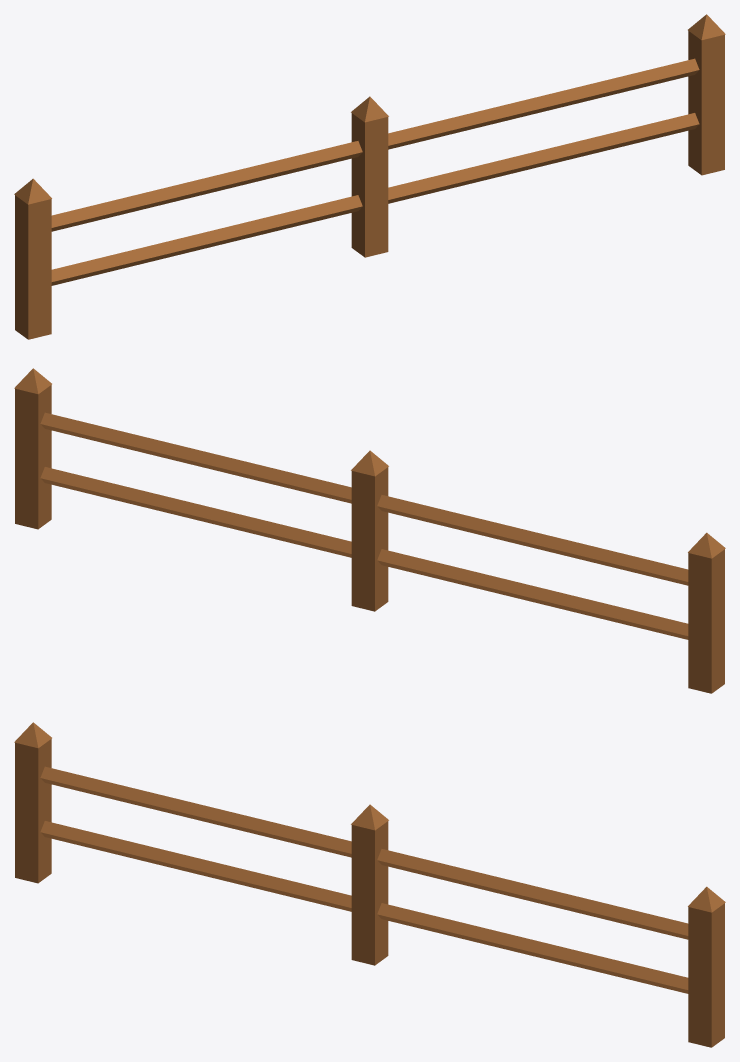
3 renders of one model, top to bottom at view 1: azimuth 30°, elevation 25°; view 2: azimuth 150°, elevation 25°; view 3: azimuth 330°, elevation 25°, orthographic.
Visible parts, largest first — view 1: 木色双横栏.001; view 2: 木色双横栏.001; view 3: 木色双横栏.001.
Boxes of the visible parts, x1,y1,x2,y2 form: 木色双横栏.001: (14,14,725,339); 木色双横栏.001: (14,368,725,693); 木色双横栏.001: (14,722,725,1047).
Size of the model in its own units: 0.8083 by 0.17 by 0.0283.
